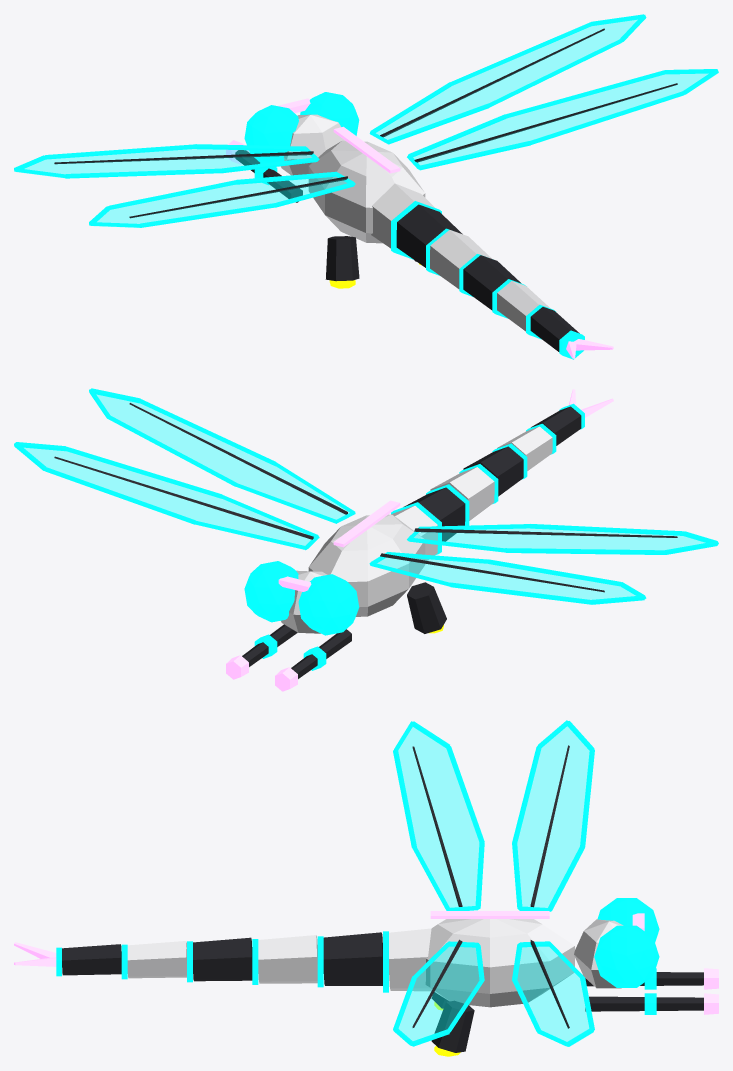
Rendered from DragonflyGunship.fbx.
The picture shows the model from 3 angles, top to bottom: view 1: azimuth 30°, elevation 25°; view 2: azimuth 150°, elevation 25°; view 3: azimuth 270°, elevation 25°; orthographic projection. The views are drawn at different scales.
Visible parts, largest first — view 1: DragonflyGunship_WingFL, DragonflyGunship_WingRL, Dfly_Thorax, DragonflyGunship_WingRR, DragonflyGunship_WingFR, Dfly_Eye-1, Dfly_Abd1, Dfly_Head, Dfly_Abd2, Dfly_Abd3, Dfly_Abd0, Dfly_Jet-1 (+22 smaller); view 2: DragonflyGunship_WingRL, DragonflyGunship_WingFL, Dfly_Thorax, DragonflyGunship_WingFR, DragonflyGunship_WingRR, Dfly_Eye-1, Dfly_Eye1, Dfly_Abd2, Dfly_Jet-1, Dfly_Abd1, Dfly_Abd3, Dfly_Abd4 (+20 smaller); view 3: Dfly_Thorax, DragonflyGunship_WingRR, DragonflyGunship_WingFR, DragonflyGunship_WingFL, DragonflyGunship_WingRL, Dfly_Eye1, Dfly_Abd1, Dfly_Abd2, Dfly_Abd3, Dfly_Abd0, Dfly_Abd4, Dfly_Abd5 (+12 smaller).
Part boxes in pixels (bbox=[...]): DragonflyGunship_WingFL: bbox=[372, 15, 642, 139]; DragonflyGunship_WingRL: bbox=[410, 69, 716, 165]; Dfly_Thorax: bbox=[308, 140, 425, 243]; DragonflyGunship_WingRR: bbox=[91, 172, 351, 223]; DragonflyGunship_WingFR: bbox=[16, 145, 315, 174]; Dfly_Eye-1: bbox=[244, 105, 298, 163]; Dfly_Abd1: bbox=[396, 204, 462, 267]; Dfly_Head: bbox=[281, 114, 345, 175]; Dfly_Abd2: bbox=[430, 230, 491, 288]; Dfly_Abd3: bbox=[463, 255, 521, 310]; Dfly_Abd0: bbox=[371, 183, 434, 248]; Dfly_Jet-1: bbox=[325, 236, 359, 281]; DragonflyGunship_WingRL: bbox=[92, 389, 351, 519]; DragonflyGunship_WingFL: bbox=[16, 442, 315, 545]; Dfly_Thorax: bbox=[308, 514, 425, 616]; DragonflyGunship_WingFR: bbox=[373, 553, 643, 599]; DragonflyGunship_WingRR: bbox=[410, 525, 716, 550]; Dfly_Eye-1: bbox=[298, 574, 359, 635]; Dfly_Eye1: bbox=[244, 561, 298, 622]; Dfly_Abd2: bbox=[430, 467, 494, 520]; Dfly_Jet-1: bbox=[407, 582, 446, 633]; Dfly_Abd1: bbox=[404, 487, 465, 541]; Dfly_Abd3: bbox=[463, 446, 523, 496]; Dfly_Abd4: bbox=[497, 426, 552, 470]; Dfly_Thorax: bbox=[425, 919, 574, 1007]; DragonflyGunship_WingRR: bbox=[396, 721, 481, 907]; DragonflyGunship_WingFR: bbox=[515, 721, 591, 907]; DragonflyGunship_WingFL: bbox=[515, 942, 591, 1041]; DragonflyGunship_WingRL: bbox=[396, 942, 481, 1041]; Dfly_Eye1: bbox=[594, 925, 659, 987]; Dfly_Abd1: bbox=[323, 932, 382, 985]; Dfly_Abd2: bbox=[258, 935, 317, 983]; Dfly_Abd3: bbox=[193, 937, 252, 981]; Dfly_Abd0: bbox=[389, 928, 431, 991]; Dfly_Abd4: bbox=[127, 941, 186, 978]; Dfly_Abd5: bbox=[62, 944, 121, 975].
Size of the model in its own units: 1.29 by 0.2726 by 1.19.
